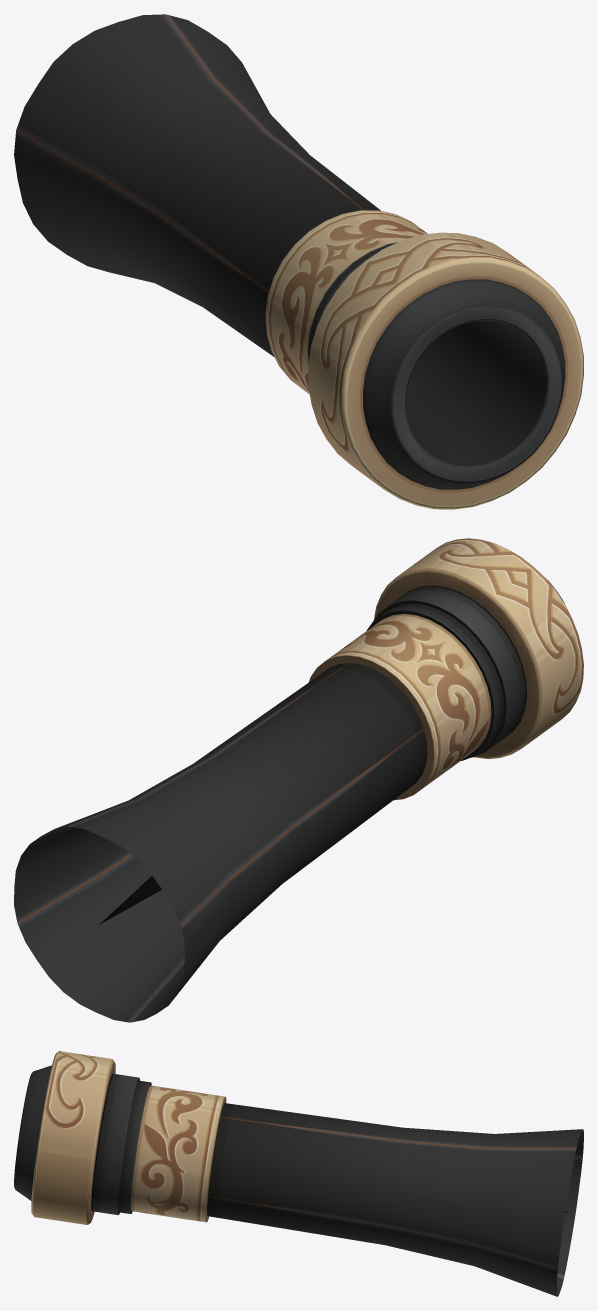
File: Cannon.glb
3 views of the same model, one above another, from view 1: azimuth 30°, elevation 25°; view 2: azimuth 150°, elevation 25°; view 3: azimuth 270°, elevation 25° (orthographic). The views are drawn at different scales.
Visible parts, largest first — view 1: SkillObj_Navia_Cannon_LOD0; view 2: SkillObj_Navia_Cannon_LOD0; view 3: SkillObj_Navia_Cannon_LOD0.
Boxes of the visible parts, <box> form: SkillObj_Navia_Cannon_LOD0: <box>14,14,583,509</box>; SkillObj_Navia_Cannon_LOD0: <box>14,538,583,1022</box>; SkillObj_Navia_Cannon_LOD0: <box>14,1051,583,1296</box>.
Bounding box in the file's own units: 0.4944 × 0.4828 × 1.22.
1 material, 1 textured.
